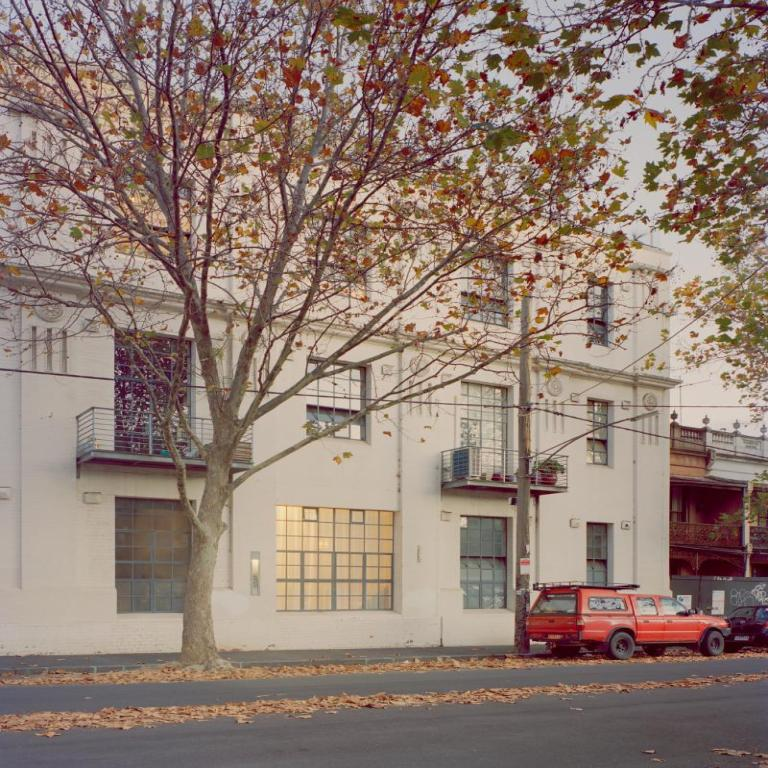white-walls: (582, 475, 662, 516)
